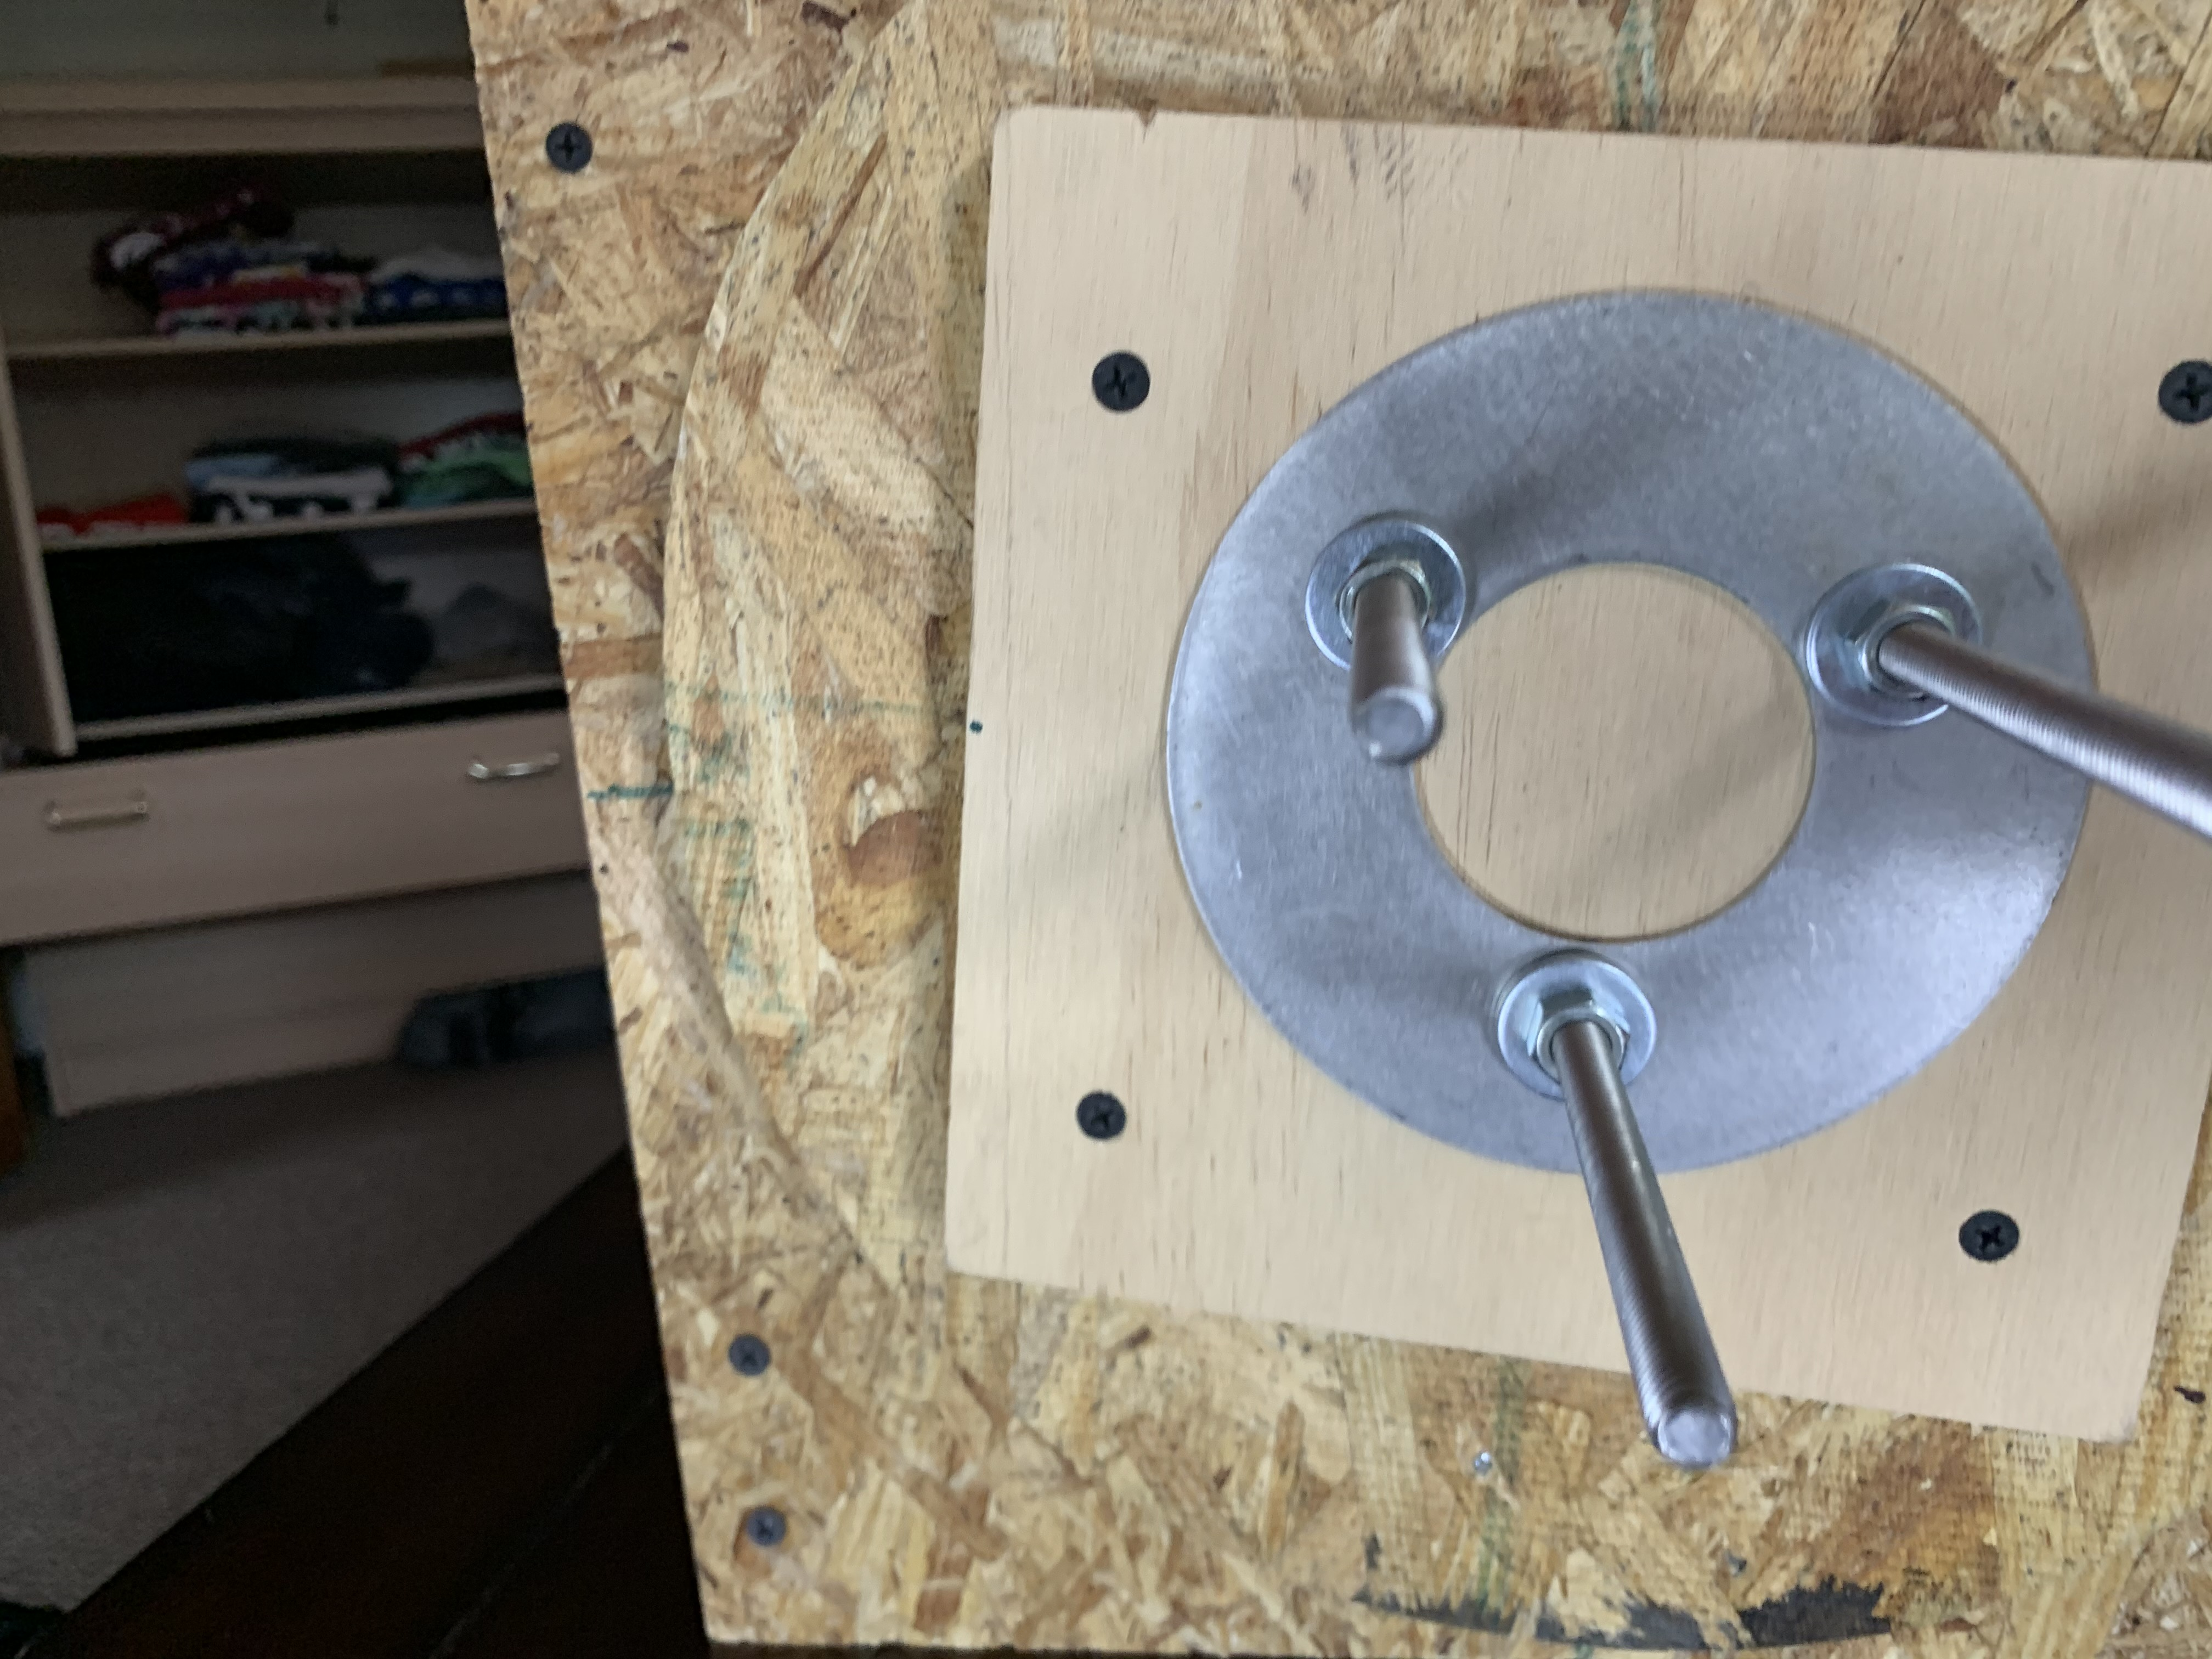bolt: (1801, 565, 1984, 732), (1299, 514, 1467, 681), (1489, 948, 1662, 1096)
